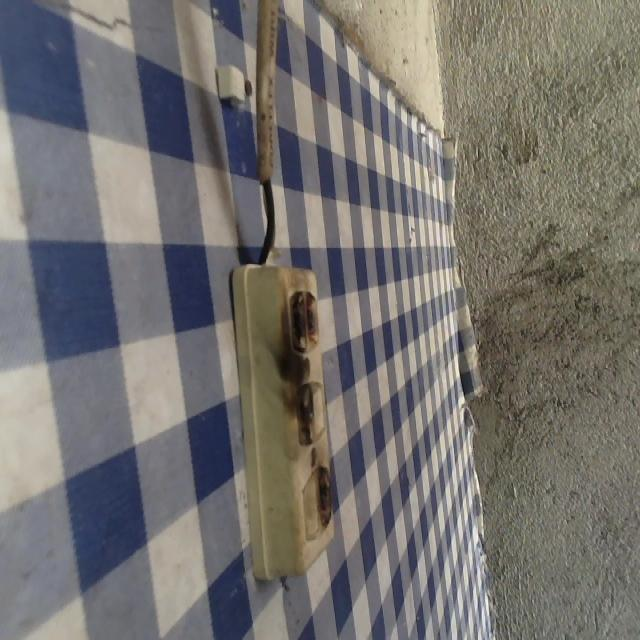-: (270, 283, 328, 365), (285, 376, 319, 452), (312, 460, 333, 532)
